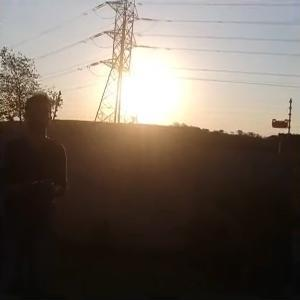follow: (7, 96, 86, 298)
